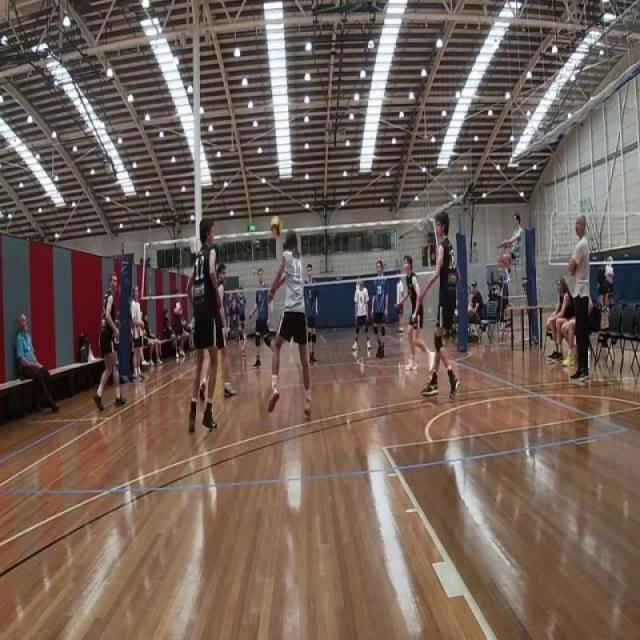volleyball: (269, 214, 282, 240)
